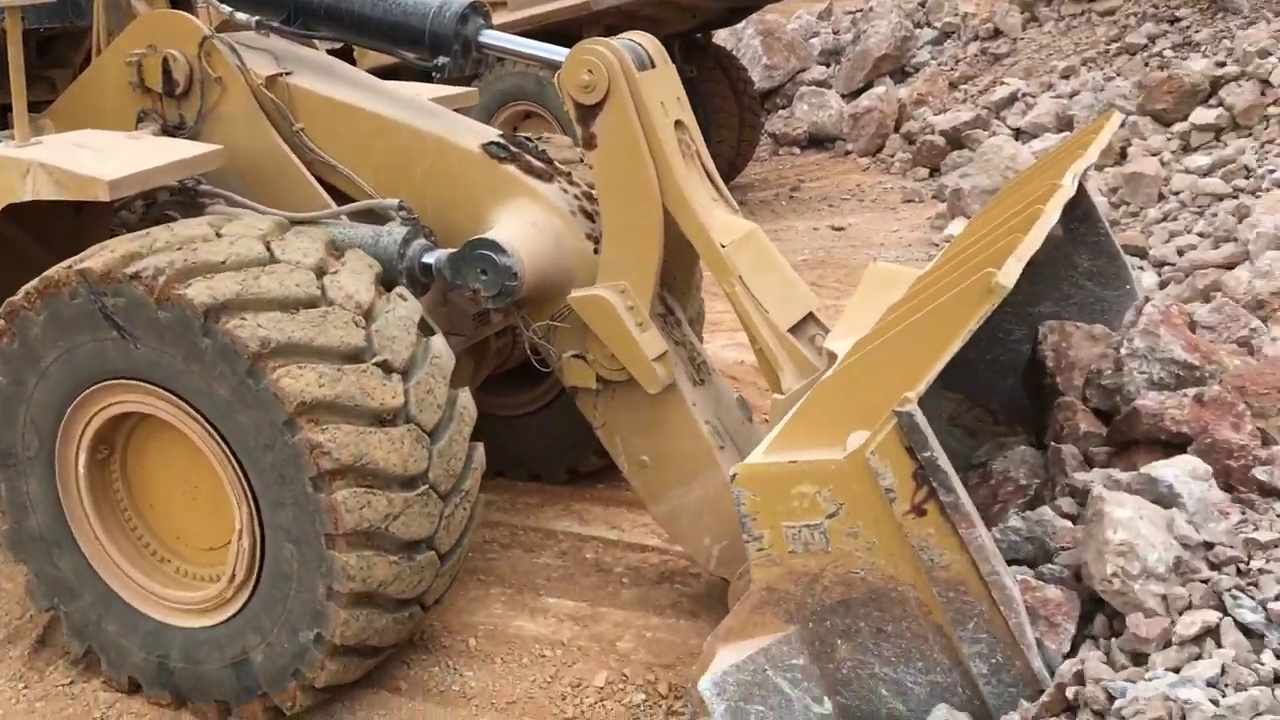wheel loader: (1, 4, 1216, 720)
